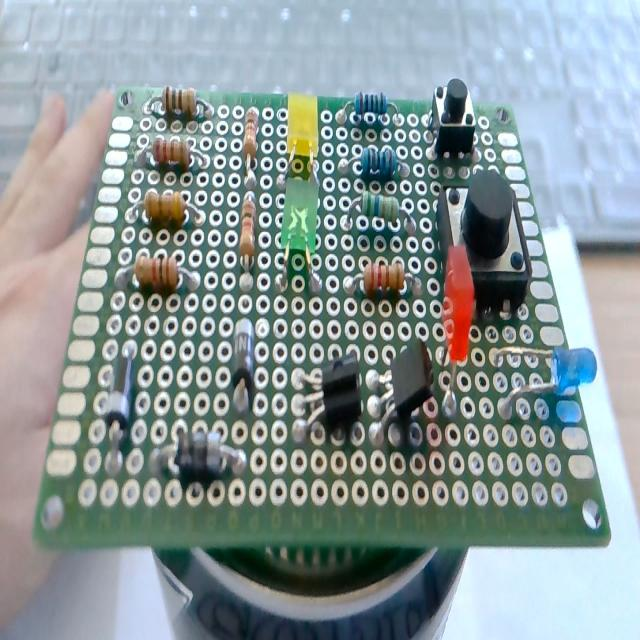diode: (153, 429, 249, 491), (100, 336, 139, 467), (234, 314, 258, 412)
led: (486, 337, 596, 412), (441, 242, 476, 420), (280, 182, 323, 292), (280, 91, 322, 180)
resistor: (344, 190, 420, 238), (129, 189, 205, 231), (145, 85, 219, 128), (117, 254, 200, 291), (136, 132, 210, 172), (344, 264, 421, 301), (334, 148, 412, 180), (336, 92, 402, 126), (236, 194, 263, 264), (241, 102, 264, 182)
switch: (432, 163, 536, 313), (425, 79, 479, 154)
transistor: (299, 348, 365, 452), (367, 348, 433, 438)
